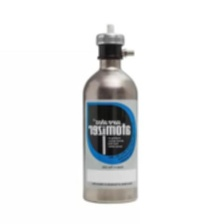aerosol_cans: (77, 17, 144, 206)
